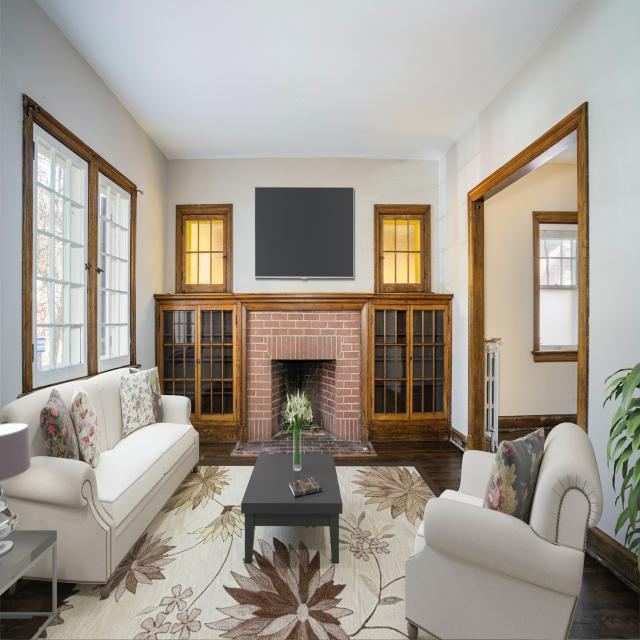floor: (333, 441, 464, 493), (567, 552, 640, 640), (0, 579, 53, 612), (233, 429, 293, 457), (198, 441, 258, 466), (0, 618, 31, 640), (57, 582, 77, 607)
wall: (439, 0, 640, 591), (167, 160, 440, 294), (484, 163, 578, 447), (242, 302, 367, 443), (255, 187, 354, 278)
